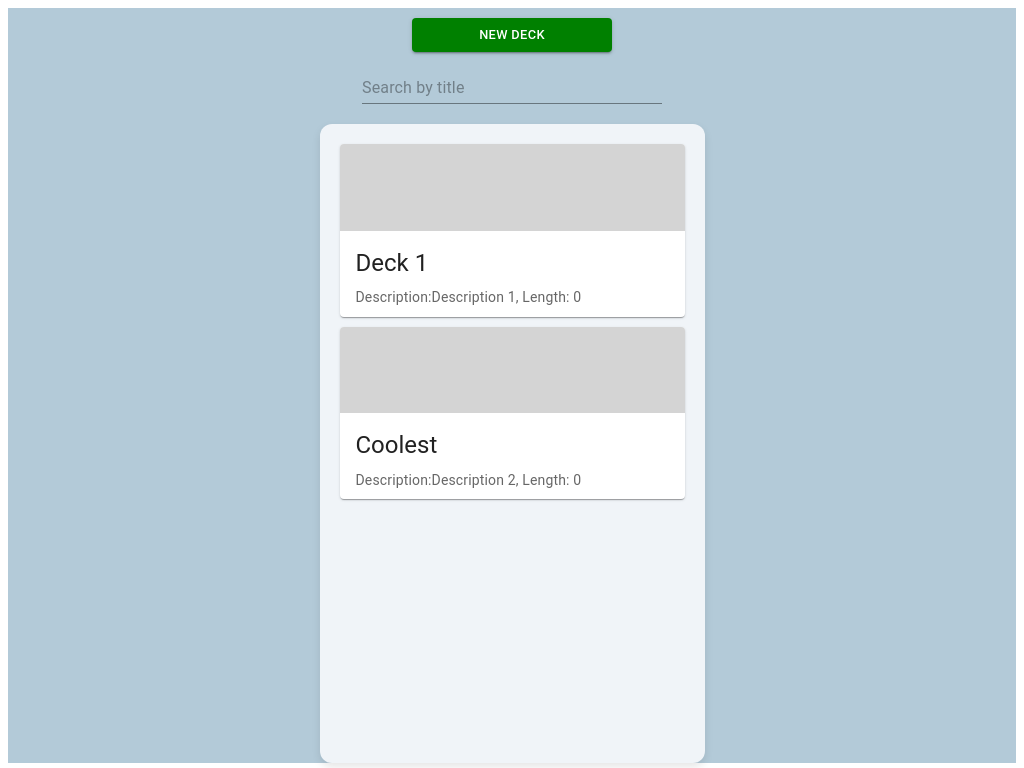
Test: DashboardPage Component › filters decks correctly based on search quiry input
# Type a search query for first deck
Type "Deck 1" into the field with placeholder "Search by title" at (512, 88), box x1=362 y1=72 x2=662 y2=104
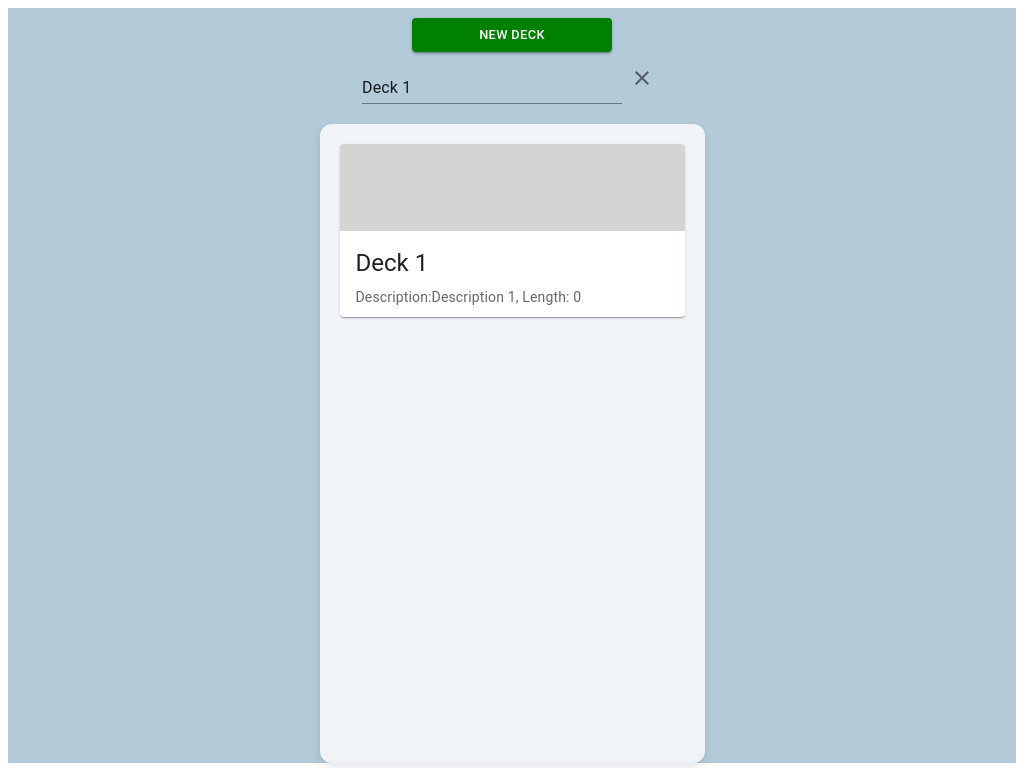
Expected: the text "Deck 1" is shown, x1=356 y1=249 x2=428 y2=277
Expected: the button "Coolest" is gone
# type another search quiry for second deck
Replace the text in the field with placeholder "Search by title" with "Coolest" at (492, 88), box x1=362 y1=72 x2=622 y2=104
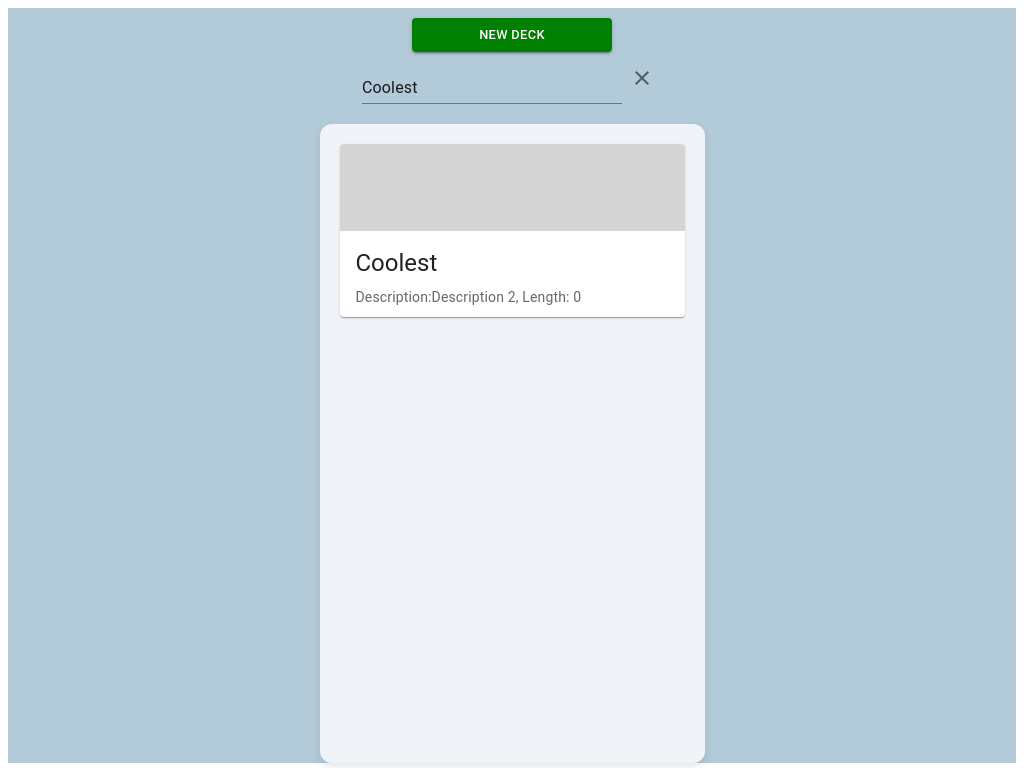
Expected: the text "Coolest" is shown, x1=356 y1=249 x2=437 y2=277
Expected: the button "Deck 1" is gone
# type a random search quiry and no decks should be visible
Replace the text in the field with placeholder "Search by title" with "random search query" at (492, 88), box x1=362 y1=72 x2=622 y2=104
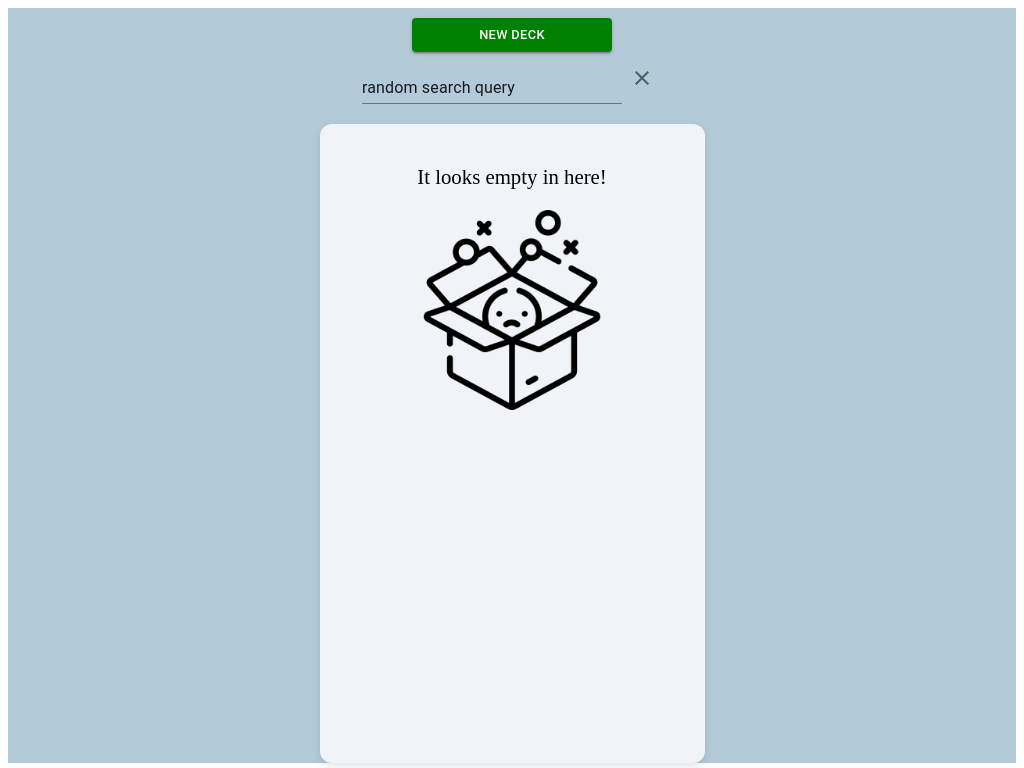
Expected: the button "Deck 1" is not shown
Expected: the button "Coolest" is gone
